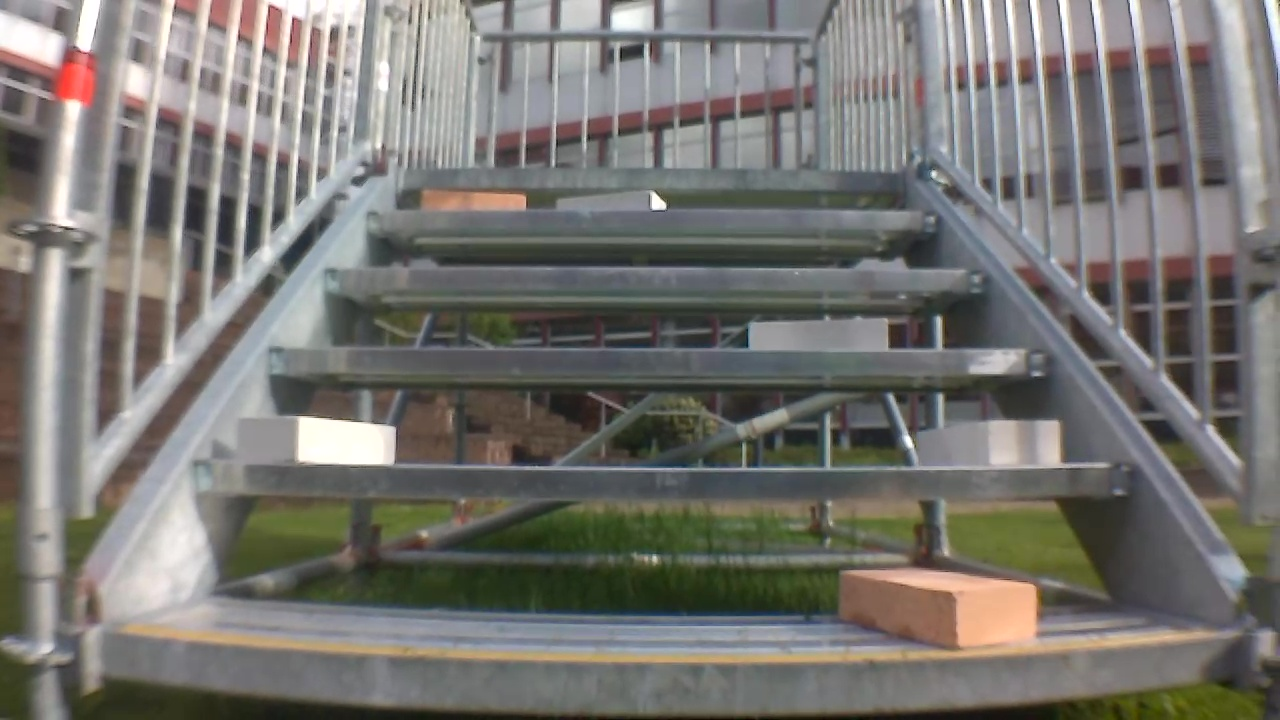brick: (839, 569, 1037, 646), (238, 416, 395, 464), (916, 421, 1060, 468), (748, 318, 886, 350), (557, 190, 667, 210), (422, 189, 525, 209)
edge: (105, 631, 1233, 715), (190, 462, 1129, 498), (268, 348, 1045, 376), (322, 268, 993, 292), (369, 211, 938, 232), (397, 167, 902, 189)
stairs: (7, 3, 1280, 718)
steps: (103, 161, 1244, 719)
